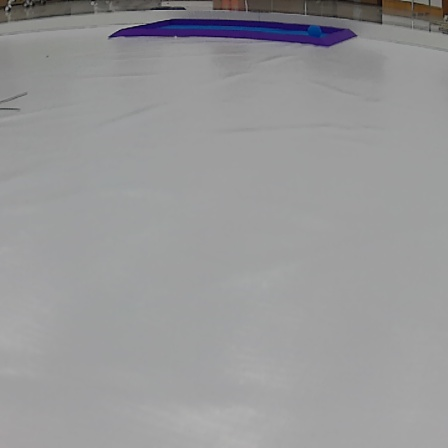blue: (307, 25, 324, 38)
blue_aim: (110, 15, 357, 48)
